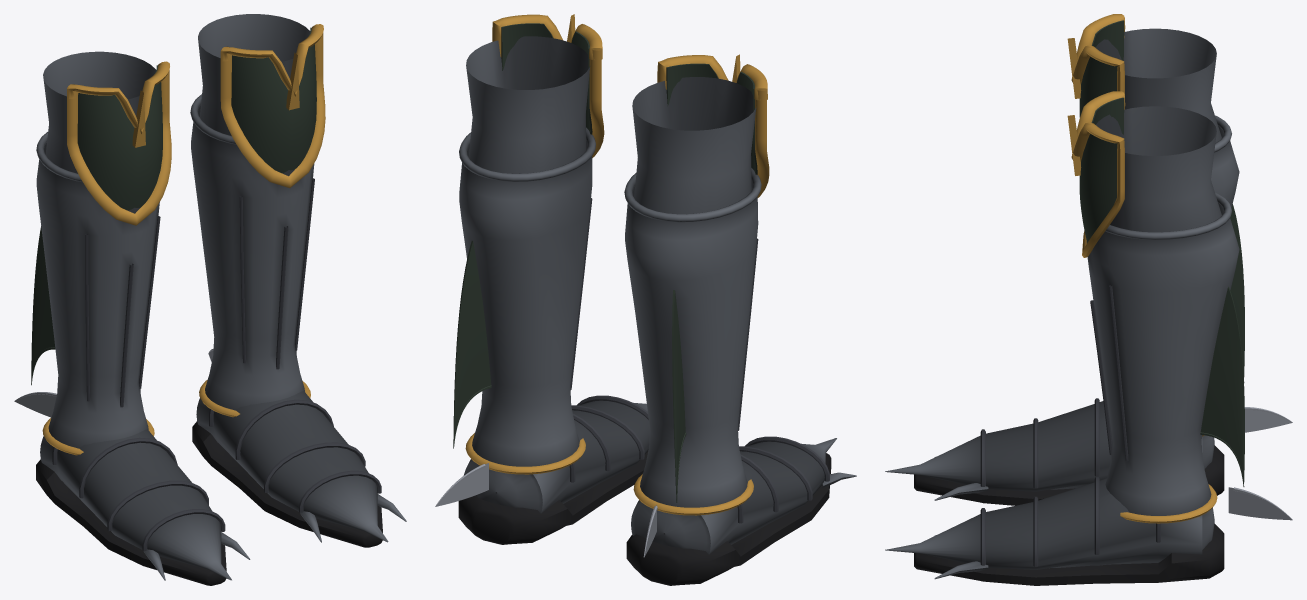
Rendered from f_blackdragon_f.glb.
3 renders of one model, left to right at view 1: azimuth 30°, elevation 25°; view 2: azimuth 150°, elevation 25°; view 3: azimuth 270°, elevation 25°, orthographic. The views are drawn at different scales.
Visible parts, largest first — view 1: LegR_Boot, LegL_Boot, LegR_BootFoot, LegL_BootFoot; view 2: LegL_Boot, LegR_Boot, LegR_BootFoot, LegL_BootFoot; view 3: LegL_Boot, LegL_BootFoot, LegR_BootFoot, LegR_Boot.
Part boxes in pixels (x1,y1,x2,y2): LegR_Boot: [31, 51, 171, 455]; LegL_Boot: [190, 14, 325, 417]; LegR_BootFoot: [14, 392, 250, 585]; LegL_BootFoot: [192, 348, 406, 547]; LegL_Boot: [453, 14, 604, 474]; LegR_Boot: [624, 54, 769, 515]; LegR_BootFoot: [626, 436, 856, 585]; LegL_BootFoot: [435, 395, 649, 544]; LegL_Boot: [1067, 91, 1244, 523]; LegL_BootFoot: [885, 476, 1292, 585]; LegR_BootFoot: [885, 398, 1292, 505]; LegR_Boot: [1067, 14, 1244, 436].
Size of the model in its own units: 0.3571 by 0.5756 by 0.4708.
